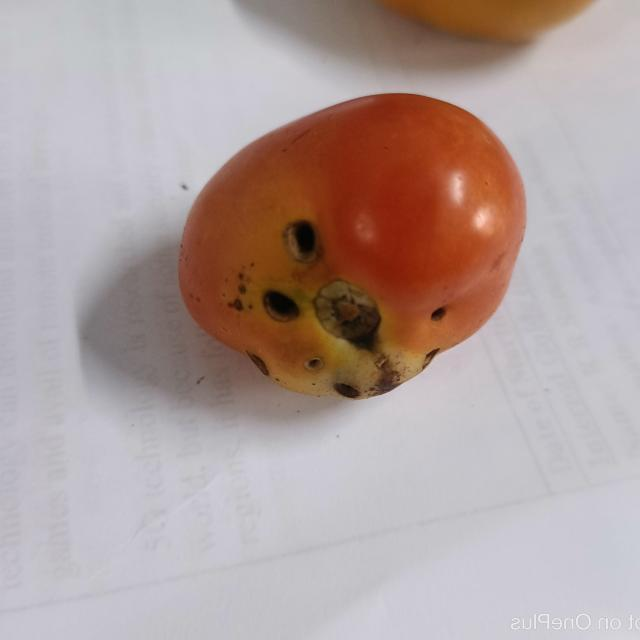fruitworm_bore: (254, 202, 324, 332), (303, 352, 367, 402), (415, 295, 453, 361)
